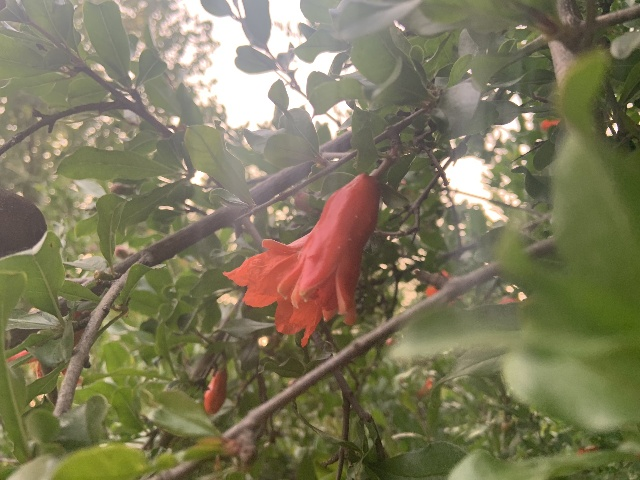bud: (204, 368, 227, 414)
flower: (223, 172, 381, 347)
